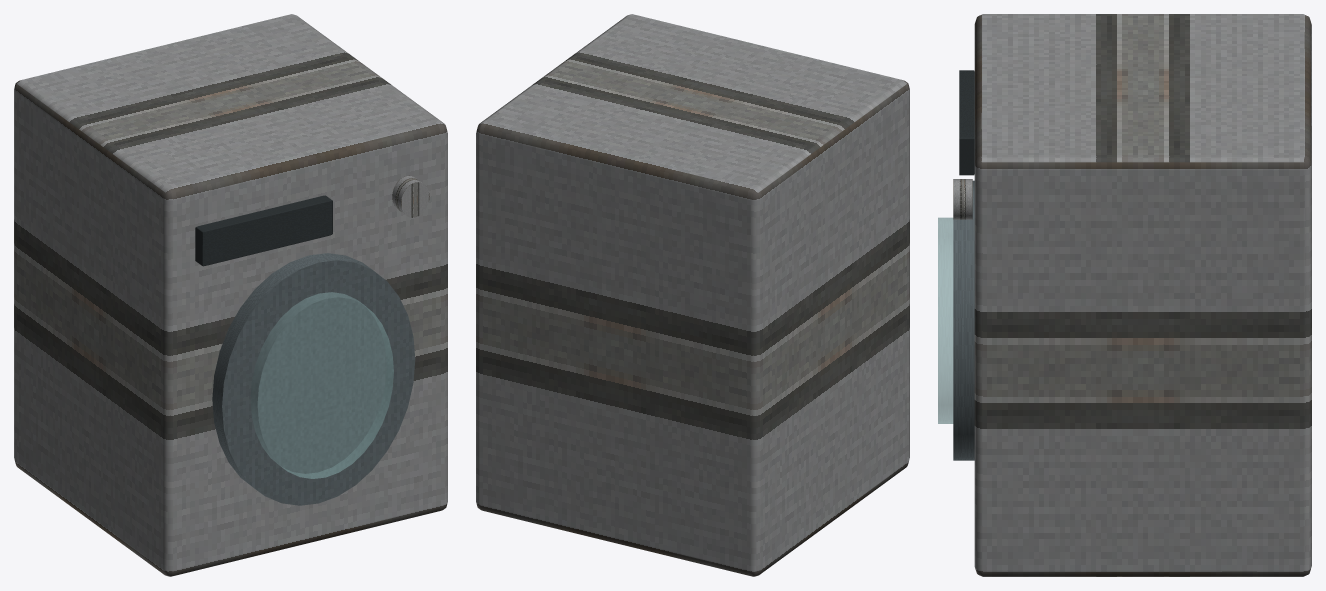
File: extractor-washer.glb
3 views of the same model, side by side, from view 1: azimuth 30°, elevation 25°; view 2: azimuth 150°, elevation 25°; view 3: azimuth 270°, elevation 25° (orthographic). The views are drawn at different scales.
Visible parts, largest first — view 1: case, hatch, window, control, dial; view 2: case; view 3: case, hatch, window, control, dial.
Part boxes in pixels (bbox=[...]): case: bbox=[14, 14, 447, 576]; hatch: bbox=[212, 253, 415, 505]; window: bbox=[250, 292, 393, 478]; control: bbox=[195, 195, 332, 266]; dial: bbox=[392, 175, 429, 217]; case: bbox=[476, 14, 909, 576]; case: bbox=[974, 14, 1311, 576]; hatch: bbox=[953, 180, 974, 460]; window: bbox=[938, 217, 953, 423]; control: bbox=[959, 70, 974, 175]; dial: bbox=[953, 179, 972, 219].
Size of the model in its own units: 0.88 by 1.15 by 0.9263.
4 materials, 4 textured.
